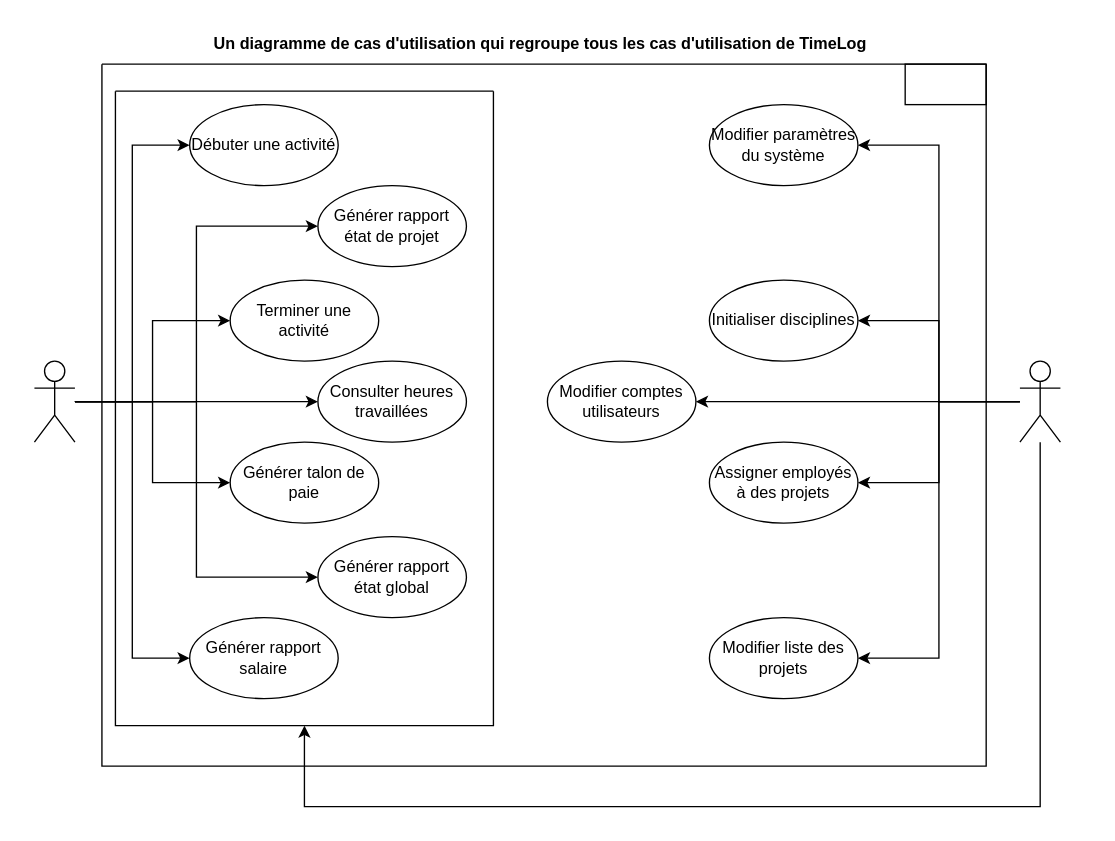
Image size: 1115x841. Some labels were removed from this diagram. Here are the shapes that lost their labels. From the top down, the box of each, then its label:
(904, 63, 986, 105): SYSTÈME
(33, 360, 75, 442): Employé
(1019, 360, 1060, 442): Administrateur
